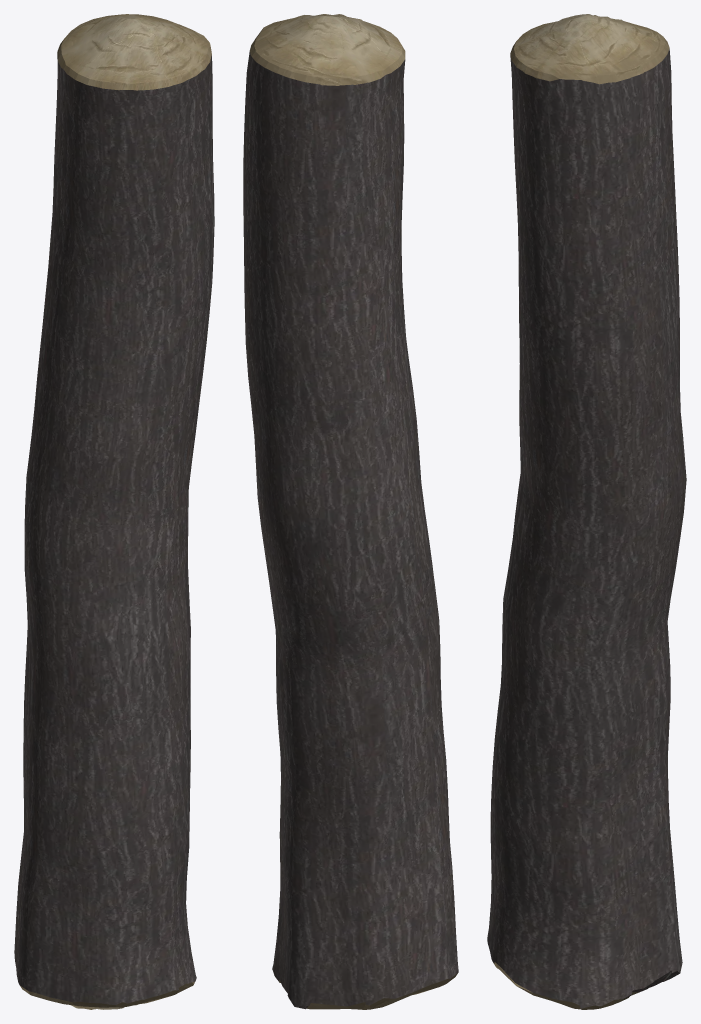
The picture shows the model from 3 angles, left to right: view 1: azimuth 30°, elevation 25°; view 2: azimuth 150°, elevation 25°; view 3: azimuth 270°, elevation 25°; orthographic projection.
Visible parts, largest first — view 1: SM_BM_Oak_Tree_01_half_bottom_LOD0; view 2: SM_BM_Oak_Tree_01_half_bottom_LOD0; view 3: SM_BM_Oak_Tree_01_half_bottom_LOD0.
Boxes of the visible parts, x1=… form: SM_BM_Oak_Tree_01_half_bottom_LOD0: x1=14, y1=14, x2=214, y2=1009; SM_BM_Oak_Tree_01_half_bottom_LOD0: x1=243, y1=14, x2=458, y2=1009; SM_BM_Oak_Tree_01_half_bottom_LOD0: x1=487, y1=14, x2=686, y2=1009.
Size of the model in its own units: 1.04 by 5.09 by 0.9292.
1 material, 1 textured.
